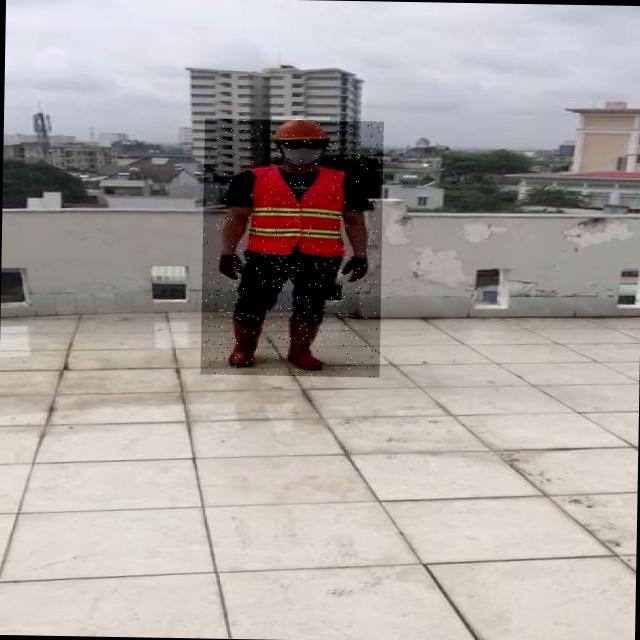Helmet: (272, 115, 330, 144)
Human: (201, 118, 384, 377)
Safety Boot: (282, 319, 331, 370), (223, 317, 263, 367)
Safety Vest: (250, 165, 348, 258)
